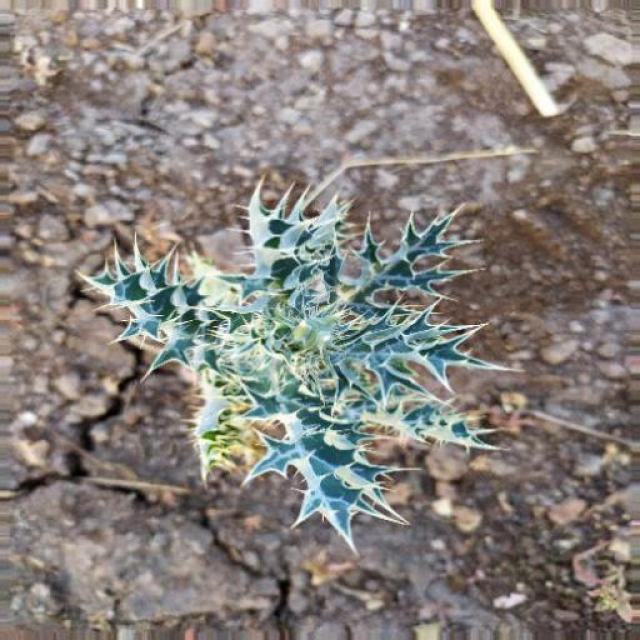weed: (79, 180, 518, 554)
